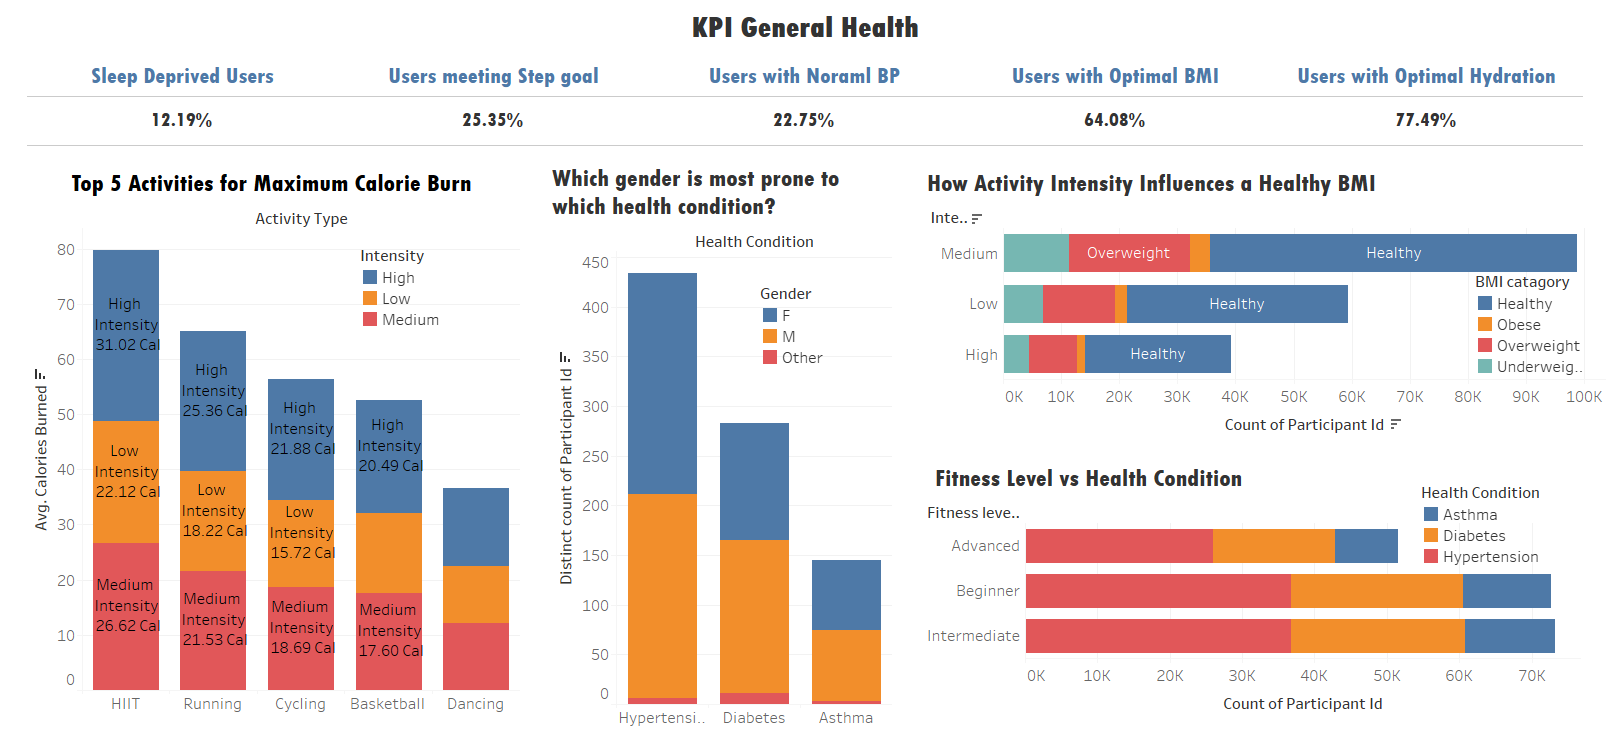

The page's visual inventory and layout, read from the dashboard file:
{"tool":"tableau","page":{"name":"Dashboard 1","canvas":[1000,1000],"units":"permille","ordinal":0},"visuals":[{"type":"worksheet","title":"Which gender is most prone to which health condition?","mark":"Automatic","rows":["participant_id"],"cols":["health_condition"],"box":[338.4,218.2,211.3,761.7]},{"type":"worksheet","title":"Top Activities for Maximum Calorie Burn","mark":"Automatic","rows":["calories_burned"],"cols":["activity_type"],"box":[16,224.9,305.3,736.3]},{"type":"worksheet","title":"How Activity Intensity Influences a Healthy BMI","mark":"Automatic","rows":["intensity"],"cols":["participant_id"],"box":[568.8,224.9,419.5,370.8]},{"type":"legend","title":"Top Activities for Maximum Calorie Burn","param":"[federated.03t2a2q08mtxo612c9eds1swv6ua].[none:intensity:nk]","box":[223,332,86,113.8]},{"type":"legend","title":"How Activity Intensity Influences a Healthy BMI","param":"[federated.03t2a2q08mtxo612c9eds1swv6ua].[none:Calculation_1037798246070124552:n","box":[907.9,366.8,69.4,147.3]},{"type":"legend","title":"Which gender is most prone to which health condition?","param":"[federated.03t2a2q08mtxo612c9eds1swv6ua].[none:gender:nk]","box":[468.7,382.9,86,113.8]},{"type":"worksheet","title":" Fitness Level vs Health Condition","mark":"Automatic","rows":["Calculation_1037798246077370377"],"cols":["participant_id"],"box":[570,619.8,402.9,349.4]},{"type":"legend","title":" Fitness Level vs Health Condition","param":"[federated.03t2a2q08mtxo612c9eds1swv6ua].[none:health_condition:nk]","box":[874.7,649.3,86,113.8]}]}

Visuals, with their boxes on the dashboard's canvas, which has no fixed pixel size, in thousandths of its width and height (x1, y1, x2, y2). These are canvas units, not pixel positions in the 1620x738 screenshot, which may show the page scaled, cropped or inside an application window:
"Which gender is most prone to which health condition?" worksheet: bbox=[338, 218, 550, 980]
"Top Activities for Maximum Calorie Burn" worksheet: bbox=[16, 225, 321, 961]
"How Activity Intensity Influences a Healthy BMI" worksheet: bbox=[569, 225, 988, 596]
"Top Activities for Maximum Calorie Burn" legend: bbox=[223, 332, 309, 446]
"How Activity Intensity Influences a Healthy BMI" legend: bbox=[908, 367, 977, 514]
"Which gender is most prone to which health condition?" legend: bbox=[469, 383, 555, 497]
" Fitness Level vs Health Condition" worksheet: bbox=[570, 620, 973, 969]
" Fitness Level vs Health Condition" legend: bbox=[875, 649, 961, 763]
